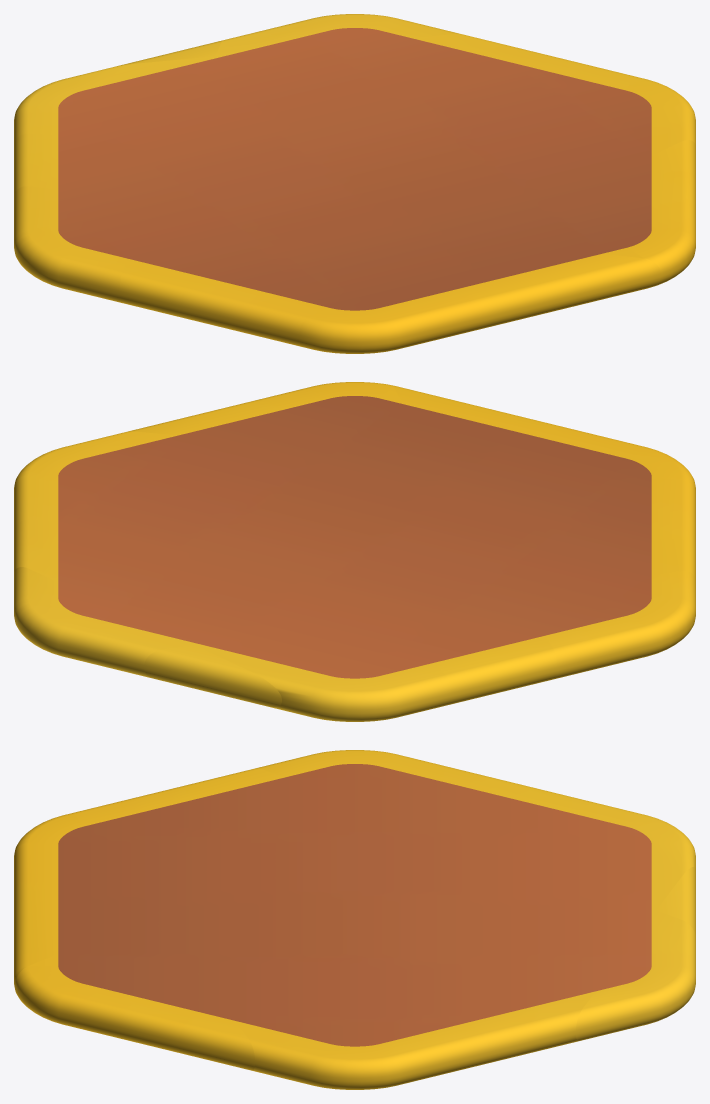
Rendered from Wooden1.fbx.
3 views of the same model, one above another, from view 1: azimuth 30°, elevation 25°; view 2: azimuth 150°, elevation 25°; view 3: azimuth 270°, elevation 25° (orthographic).
Visible parts, largest first — view 1: Cylinder.072, Cylinder.080, Cylinder.074, Cylinder.079, Cylinder.076, Cylinder.078, Cylinder.073, Cylinder.069, Cylinder.071, Cylinder.075, Cylinder.070, Cylinder.067 (+2 smaller); view 2: Cylinder.072, Cylinder.074, Cylinder.069, Cylinder.076, Cylinder.079, Cylinder.071, Cylinder.080, Cylinder.073, Cylinder.078, Cylinder.070, Cylinder.067, Cylinder.075 (+2 smaller); view 3: Cylinder.072, Cylinder.074, Cylinder.078, Cylinder.076, Cylinder.079, Cylinder.080, Cylinder.073, Cylinder.069, Cylinder.067, Cylinder.075, Cylinder.070, Cylinder.071 (+2 smaller).
Part boxes in pixels (bbox=[...]): Cylinder.072: bbox=[178, 34, 556, 154]; Cylinder.080: bbox=[299, 238, 660, 353]; Cylinder.074: bbox=[400, 57, 695, 167]; Cylinder.079: bbox=[179, 218, 474, 346]; Cylinder.076: bbox=[300, 155, 624, 238]; Cylinder.078: bbox=[476, 168, 695, 286]; Cylinder.073: bbox=[153, 142, 399, 217]; Cylinder.069: bbox=[14, 56, 214, 144]; Cylinder.071: bbox=[14, 186, 152, 302]; Cylinder.075: bbox=[119, 201, 298, 317]; Cylinder.070: bbox=[14, 133, 177, 200]; Cylinder.067: bbox=[215, 14, 461, 56]; Cylinder.072: bbox=[14, 519, 387, 644]; Cylinder.074: bbox=[14, 431, 303, 530]; Cylinder.069: bbox=[193, 615, 450, 721]; Cylinder.076: bbox=[218, 439, 482, 533]; Cylinder.079: bbox=[437, 458, 695, 550]; Cylinder.071: bbox=[521, 571, 695, 678]; Cylinder.080: bbox=[392, 385, 695, 492]; Cylinder.073: bbox=[304, 528, 520, 615]; Cylinder.078: bbox=[194, 382, 436, 458]; Cylinder.070: bbox=[388, 595, 556, 704]; Cylinder.067: bbox=[14, 567, 192, 678]; Cylinder.075: bbox=[483, 533, 695, 595]; Cylinder.072: bbox=[362, 854, 655, 1063]; Cylinder.074: bbox=[222, 929, 488, 1089]; Cylinder.078: bbox=[15, 914, 221, 1053]; Cylinder.076: bbox=[152, 860, 361, 1004]; Cylinder.079: bbox=[73, 783, 282, 914]; Cylinder.080: bbox=[14, 813, 151, 989]; Cylinder.073: bbox=[283, 815, 497, 928]; Cylinder.069: bbox=[499, 802, 695, 910]; Cylinder.067: bbox=[576, 910, 695, 1040]; Cylinder.075: bbox=[194, 768, 390, 860]; Cylinder.070: bbox=[391, 776, 593, 853]; Cylinder.071: bbox=[256, 750, 487, 815].
Size of the model in its own units: 36.04 by 1.55 by 32.47.
